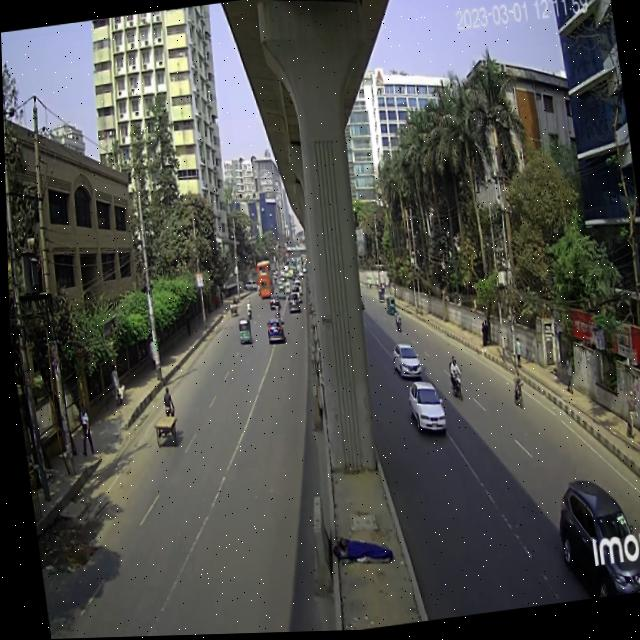cng: (233, 313, 253, 355)
